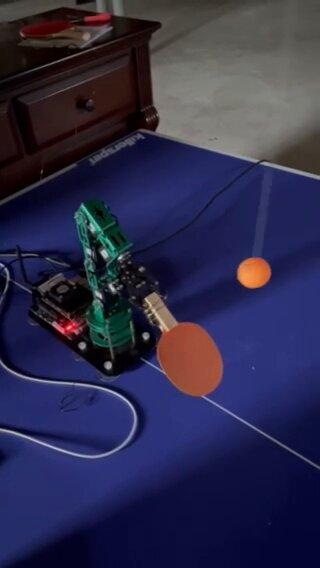oball: (238, 257, 270, 290)
